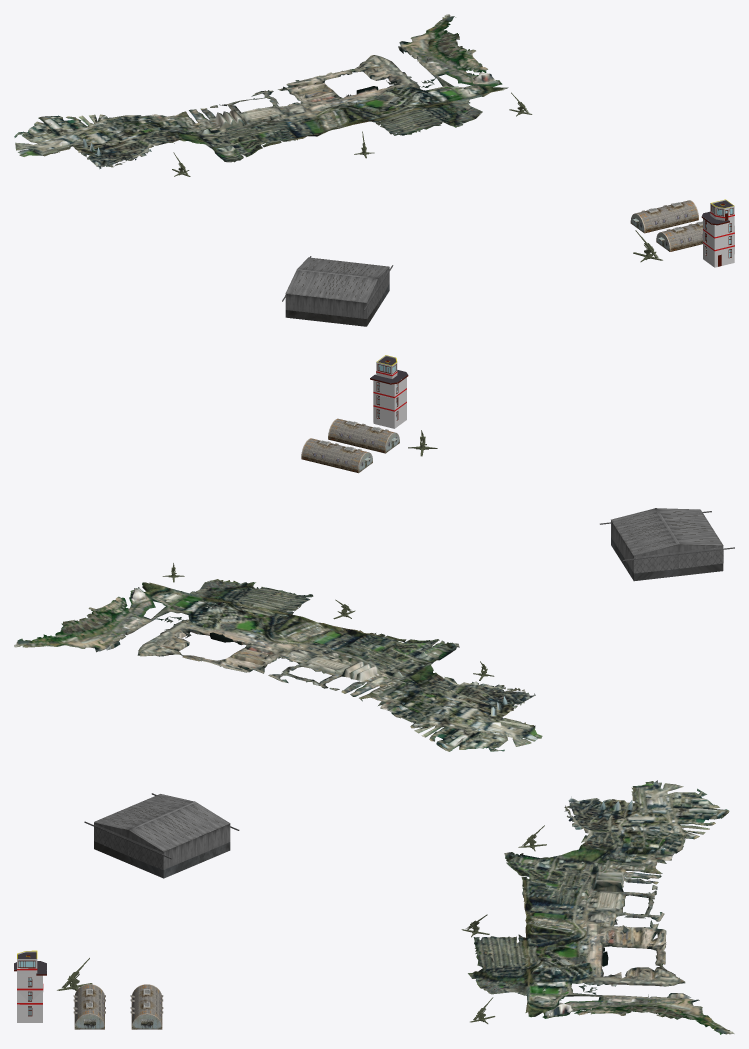
Rendered from Sasebo.glb.
3 renders of one model, top to bottom at view 1: azimuth 30°, elevation 25°; view 2: azimuth 150°, elevation 25°; view 3: azimuth 270°, elevation 25°, orthographic. The views are drawn at different scales.
Parts seen in each view (by area): view 1: VLPDevonport, Object_2, German.Control.Tower.1.700, Cylinder001_Barrack Texture Map_0.002, Cylinder001_Barrack Texture Map_0.001; view 2: VLPDevonport, Object_2, German.Control.Tower.1.700, Cylinder001_Barrack Texture Map_0.001, Cylinder001_Barrack Texture Map_0.002; view 3: VLPDevonport, Object_2, German.Control.Tower.1.700, Cylinder001_Barrack Texture Map_0.002, Cylinder001_Barrack Texture Map_0.001.
Boxes of the visible parts, x1,y1,x2,y2 form: VLPDevonport: [14, 14, 508, 169]; Object_2: [282, 256, 393, 326]; German.Control.Tower.1.700: [701, 199, 734, 267]; Cylinder001_Barrack Texture Map_0.002: [630, 200, 698, 233]; Cylinder001_Barrack Texture Map_0.001: [656, 221, 702, 251]; VLPDevonport: [14, 579, 542, 751]; Object_2: [600, 508, 734, 581]; German.Control.Tower.1.700: [370, 355, 408, 428]; Cylinder001_Barrack Texture Map_0.001: [328, 418, 399, 453]; Cylinder001_Barrack Texture Map_0.002: [301, 438, 372, 473]; VLPDevonport: [468, 780, 734, 1034]; Object_2: [84, 793, 239, 878]; German.Control.Tower.1.700: [14, 950, 46, 1022]; Cylinder001_Barrack Texture Map_0.002: [130, 984, 163, 1029]; Cylinder001_Barrack Texture Map_0.001: [73, 984, 105, 1029].
Size of the model in its own units: 232 by 30.66 by 277.
Materials: 18 (4 with a texture image).
